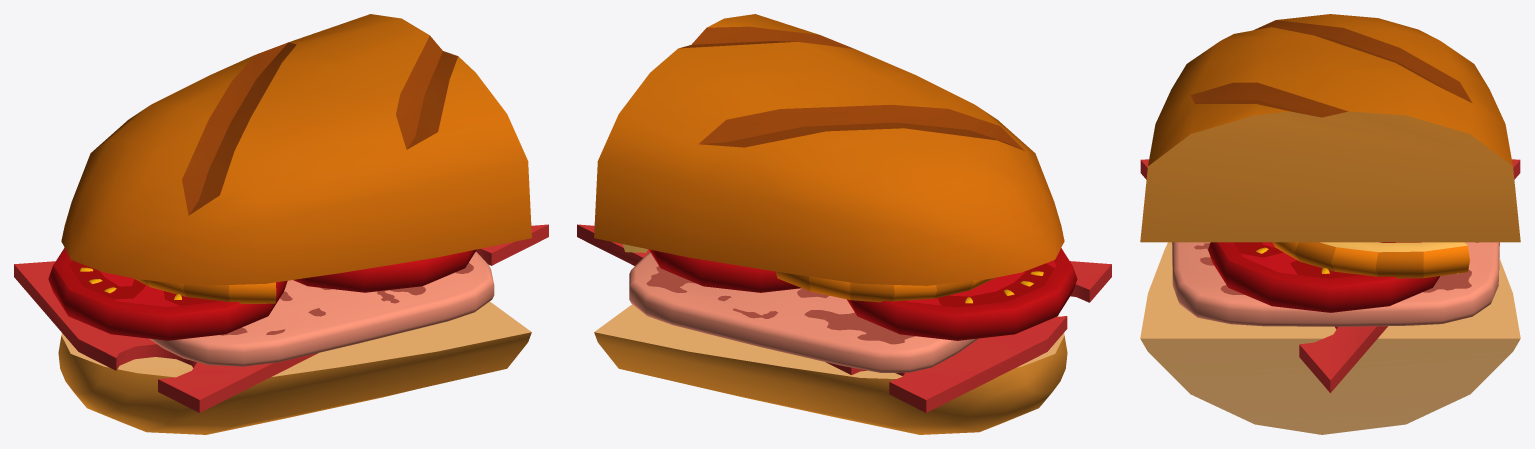
File: Sandwich_half_05.fbx
3 renders of one model, left to right at view 1: azimuth 30°, elevation 25°; view 2: azimuth 150°, elevation 25°; view 3: azimuth 270°, elevation 25°, orthographic. The views are drawn at different scales.
Parts seen in each view (by area): view 1: Sandwich_half_05; view 2: Sandwich_half_05; view 3: Sandwich_half_05.
Part boxes in pixels (x1,y1,x2,y2): Sandwich_half_05: [14, 14, 548, 434]; Sandwich_half_05: [577, 14, 1111, 434]; Sandwich_half_05: [1140, 14, 1520, 434].
Bounding box in the file's own units: 113 × 75.14 × 70.6.
